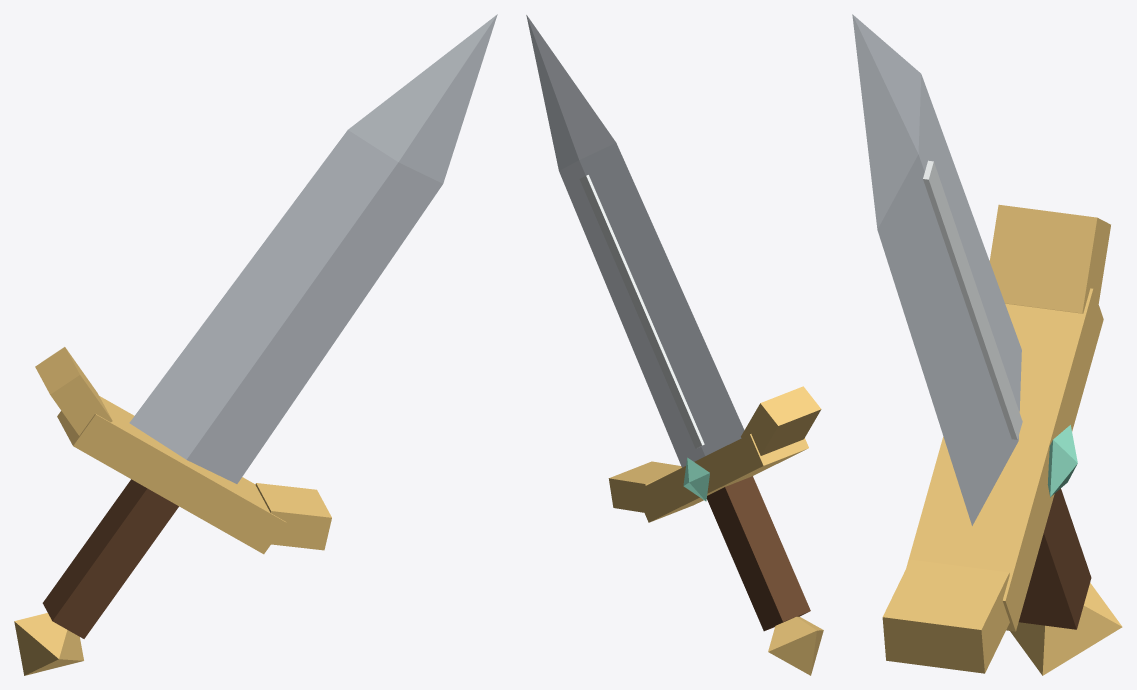
File: Sword.obj
3 views of the same model, side by side, from view 1: azimuth 30°, elevation 25°; view 2: azimuth 150°, elevation 25°; view 3: azimuth 270°, elevation 25° (orthographic). The views are drawn at different scales.
Size of the model in its own units: 2.36 by 3.39 by 0.8884.
